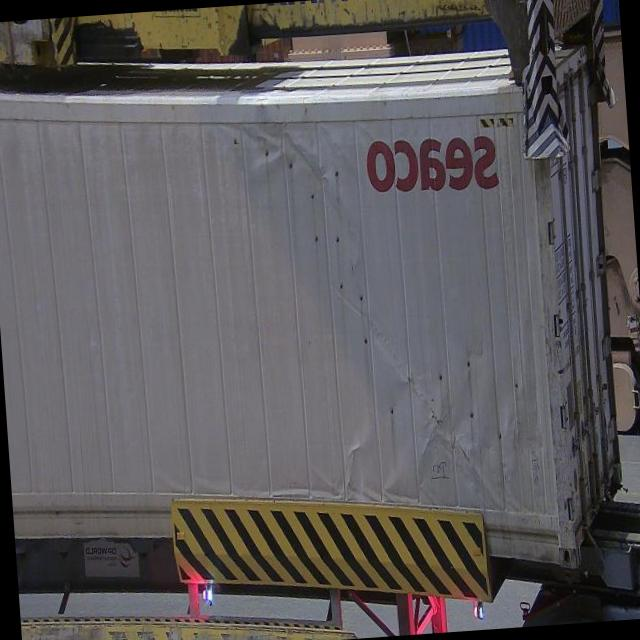Hole: (380, 344, 532, 446), (308, 232, 370, 354)
